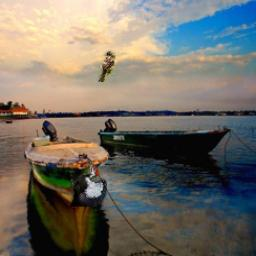Sparrow: (99, 51, 115, 82)
Woodpecker: (69, 159, 106, 208)
